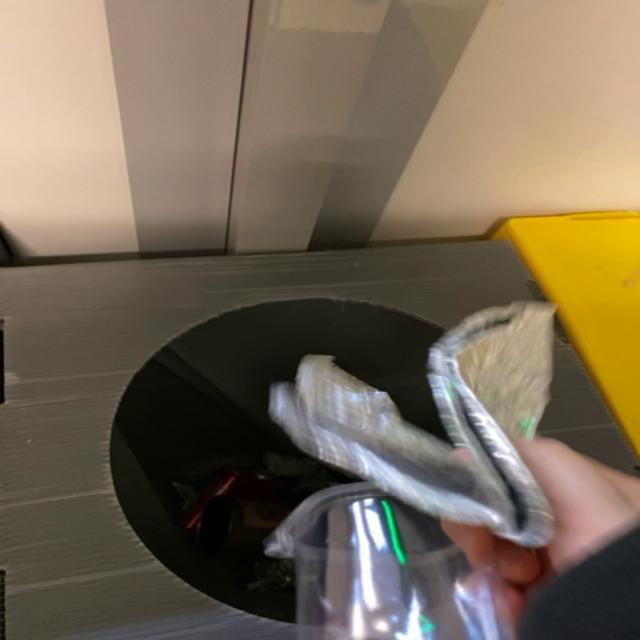bin: (1, 241, 543, 640)
metal: (270, 303, 556, 548)
